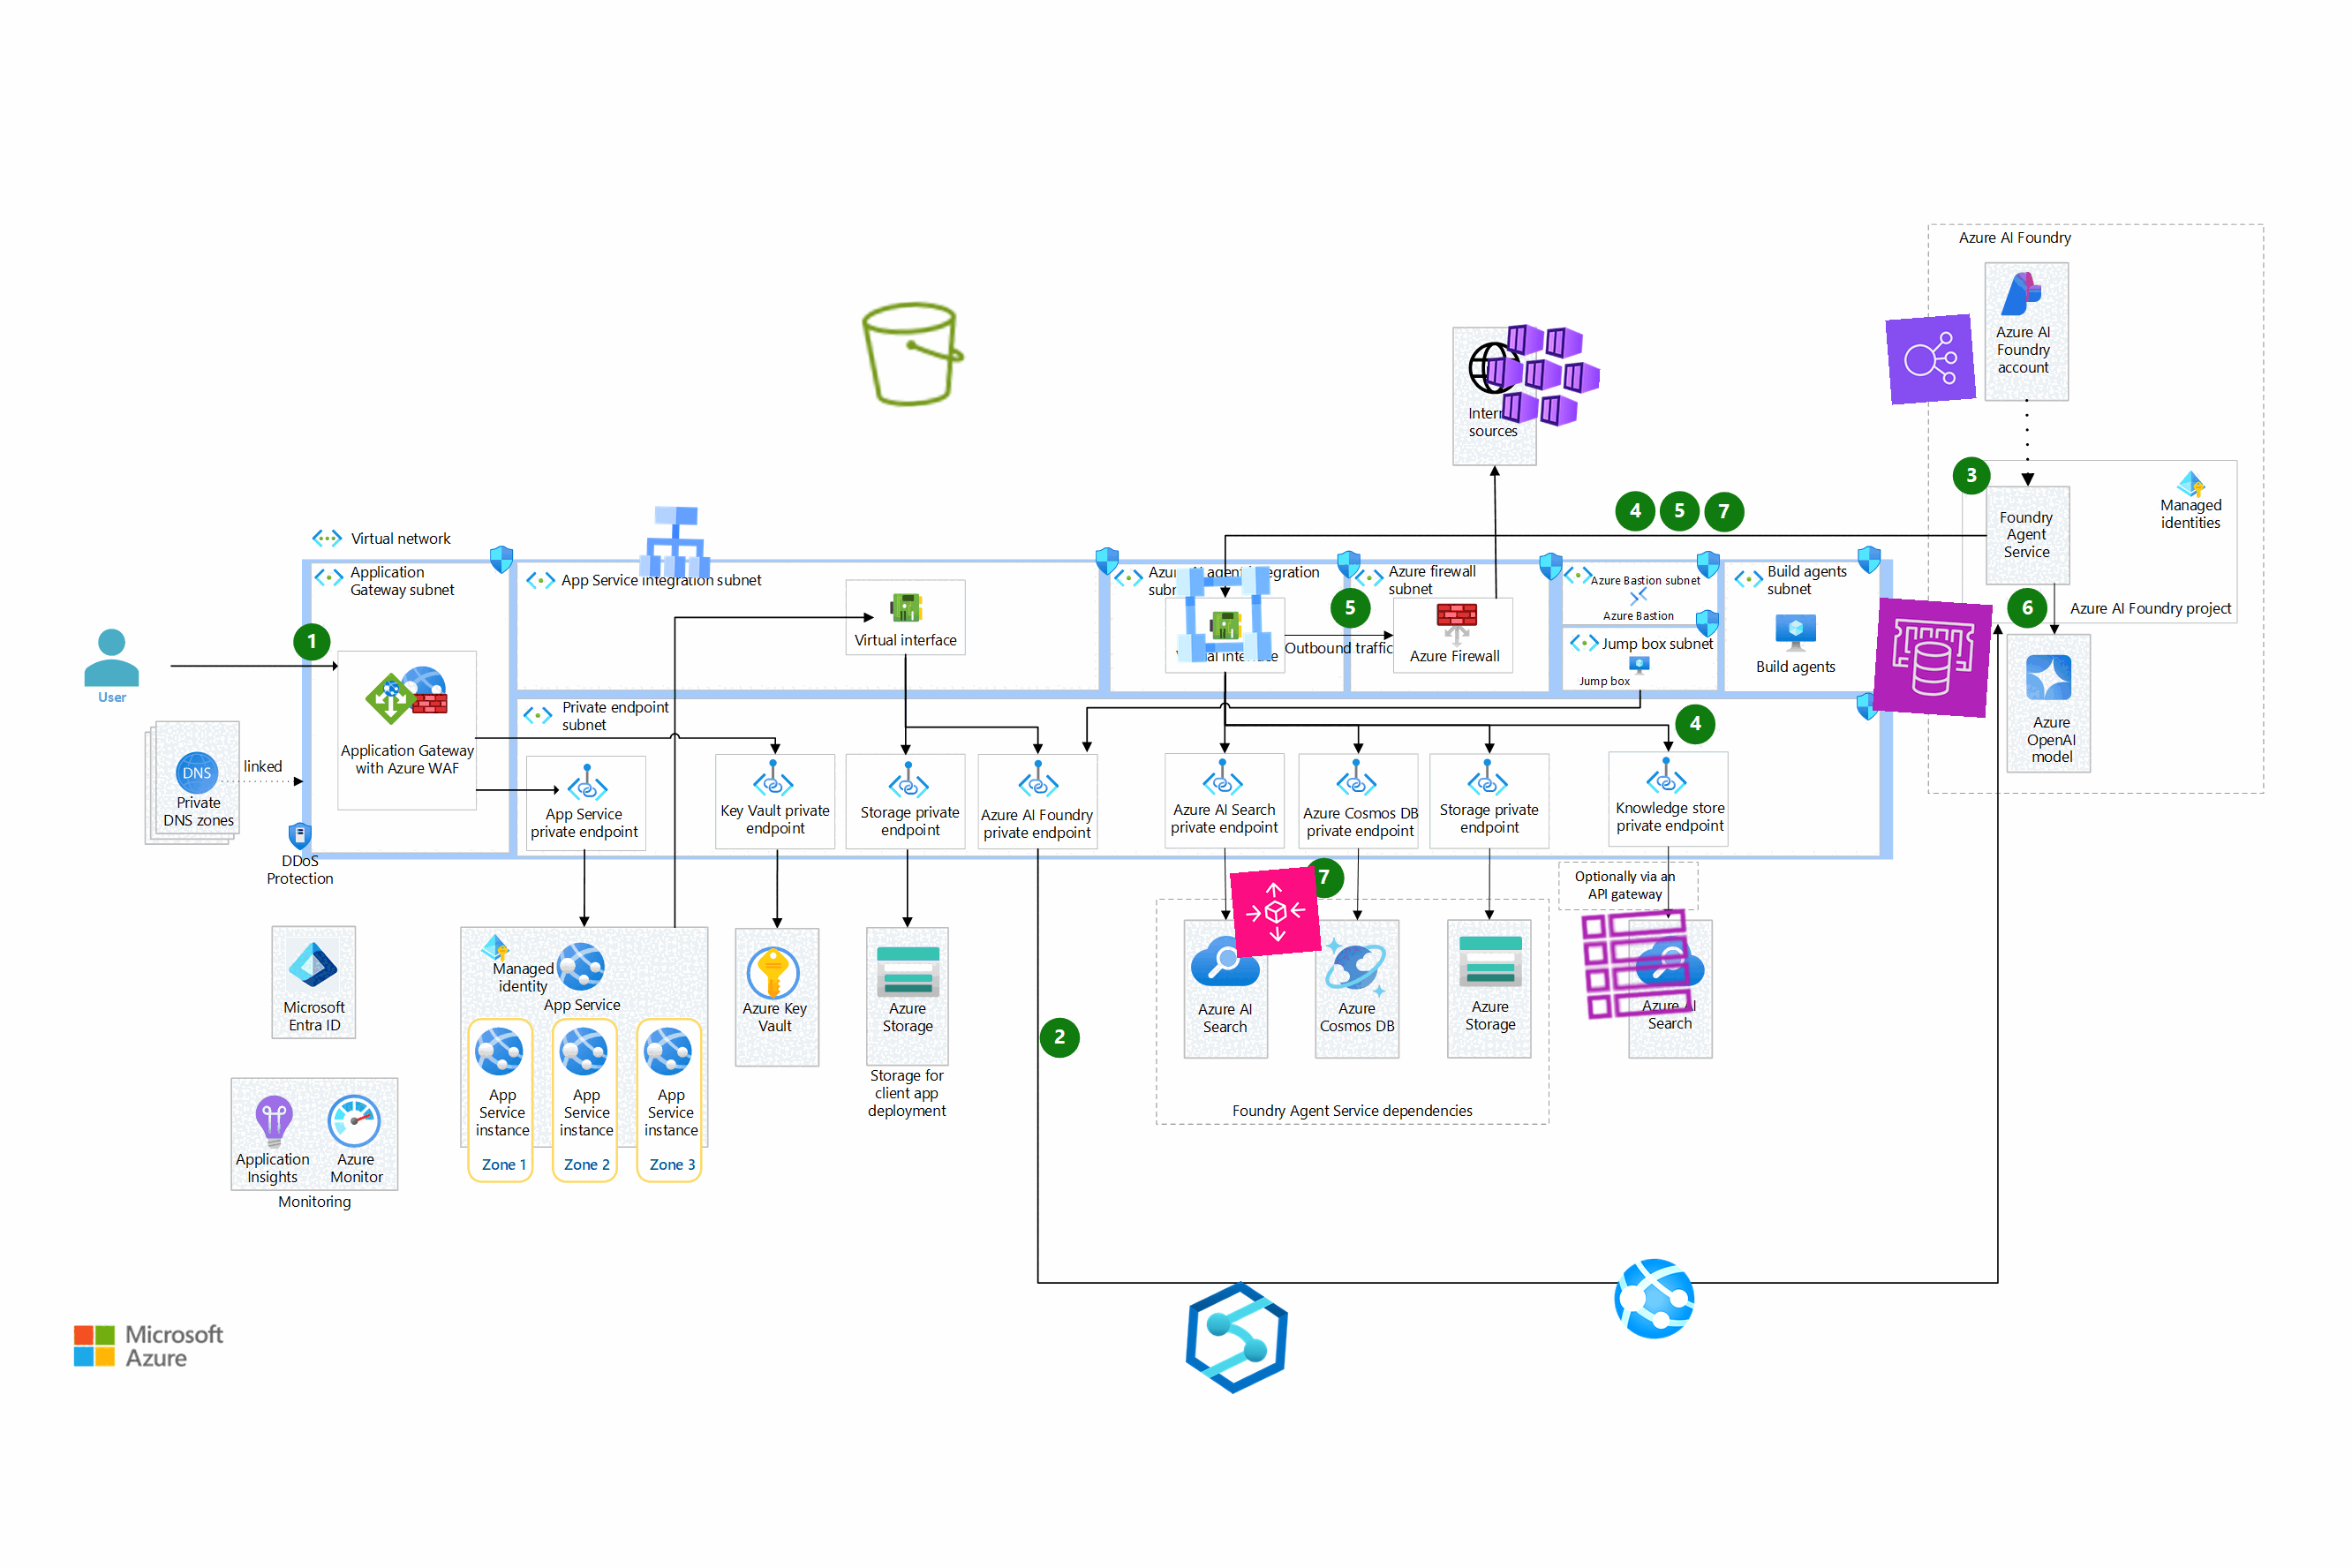aws_amazon_elasticache: (1873, 597, 1993, 719)
aws_auto_scaling: (1230, 866, 1321, 957)
aws_dynamodb_table: (1577, 903, 1697, 1025)
aws_elastic_load_balancing: (1885, 313, 1977, 406)
aws_simple_storage_service_s3_standard: (854, 294, 973, 415)
azure_app_services: (1610, 1253, 1699, 1344)
azure_kubernetes_services: (1482, 313, 1605, 436)
azure_synapse_analytics: (1176, 1277, 1298, 1398)
gcp_cloud_load_balancing: (632, 499, 719, 586)
gcp_virtual_private_cloud: (1165, 556, 1283, 672)
